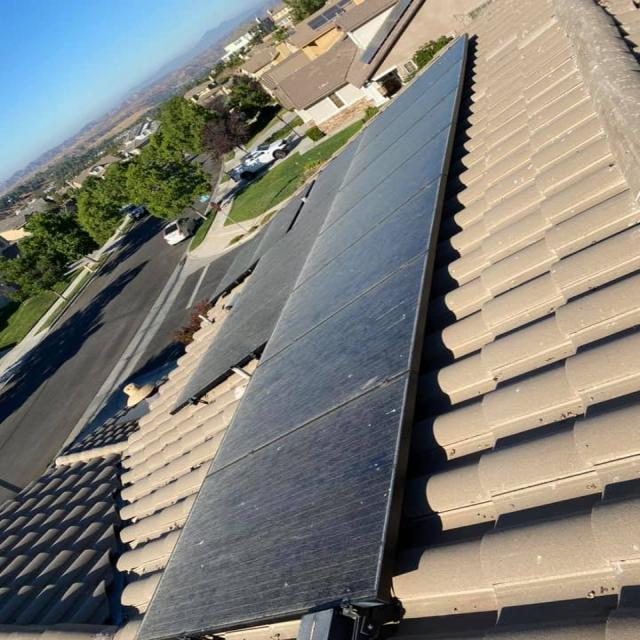Anomaly Solar Panel: (134, 34, 464, 639)
Surface Contaminant: (135, 35, 466, 638)
